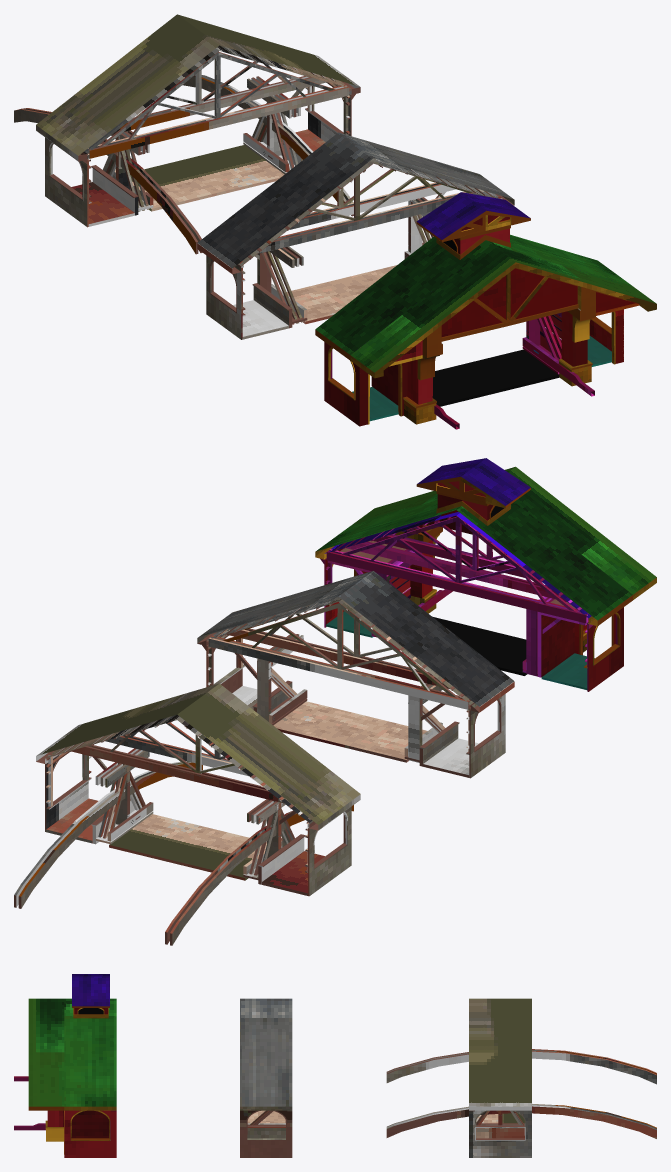
The model's file is Covered_bridge_01.glb.
The picture shows the model from 3 angles, top to bottom: view 1: azimuth 30°, elevation 25°; view 2: azimuth 150°, elevation 25°; view 3: azimuth 270°, elevation 25°; orthographic projection. The views are drawn at different scales.
Visible parts, largest first — view 1: Covered_bridge_01; view 2: Covered_bridge_01; view 3: Covered_bridge_01.
Part boxes in pixels (x1=…): Covered_bridge_01: x1=14, y1=14, x2=656, y2=429; Covered_bridge_01: x1=14, y1=458, x2=656, y2=945; Covered_bridge_01: x1=14, y1=974, x2=656, y2=1157.
Size of the model in its own units: 20.35 by 12.44 by 53.97.
2 materials, 2 textured.
